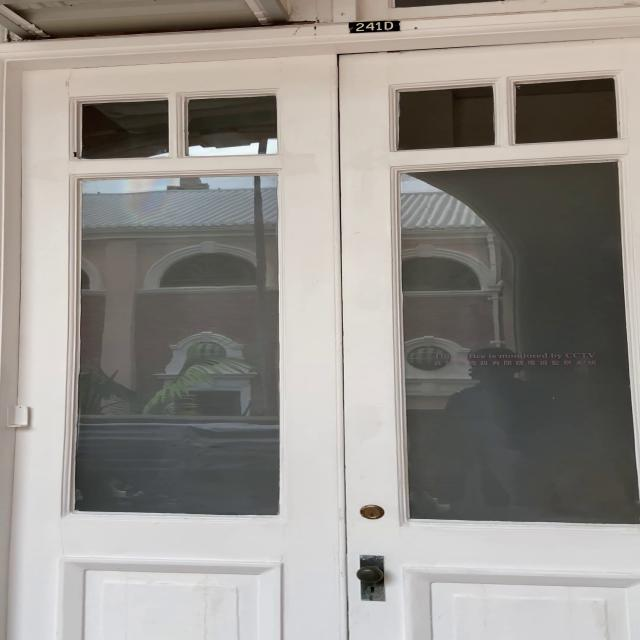room241d: (345, 18, 402, 37)
